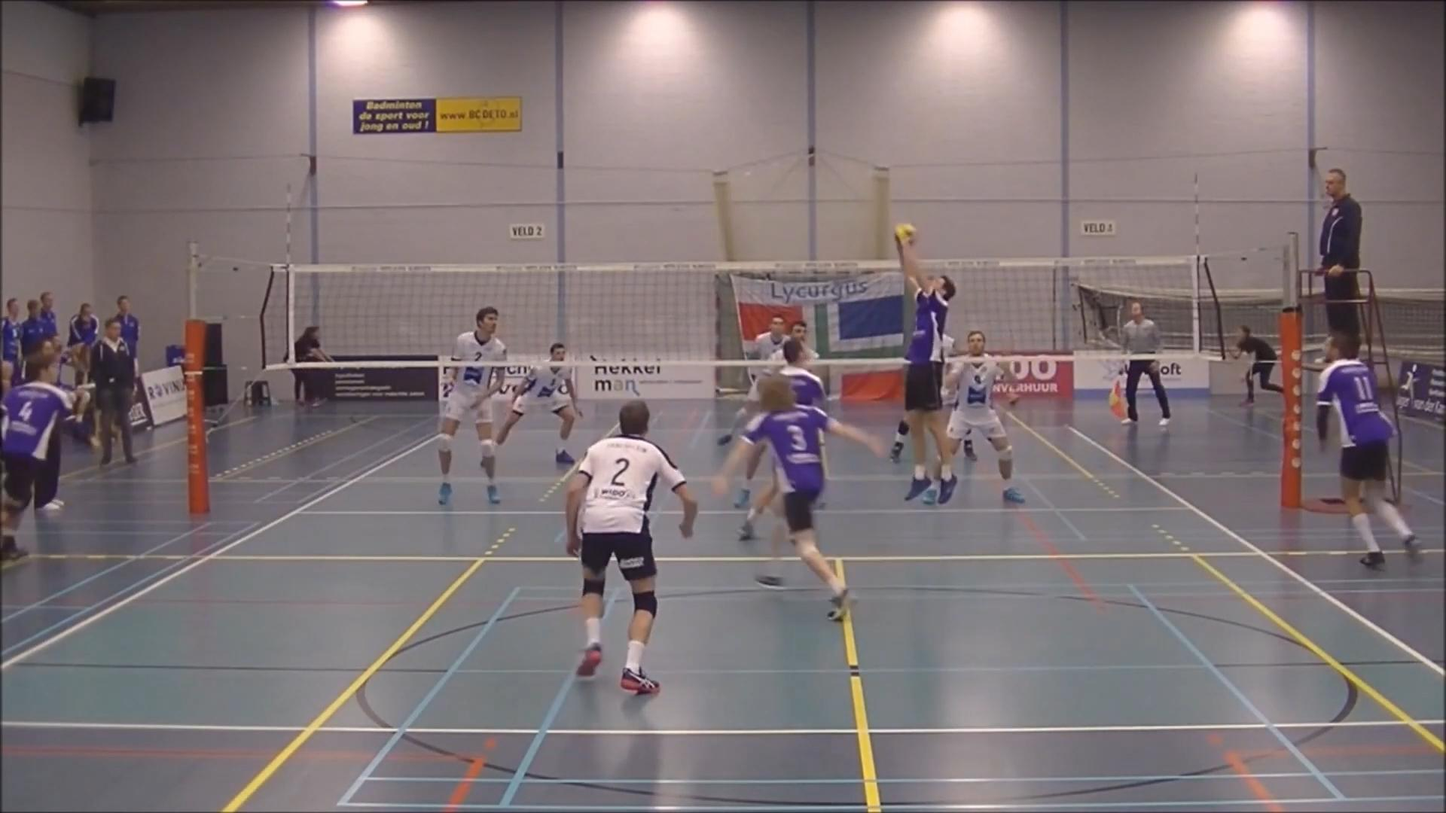Player: (714, 374, 885, 620), (566, 400, 697, 694), (1317, 333, 1415, 567), (0, 346, 87, 560), (946, 330, 1024, 503), (438, 306, 506, 504), (496, 343, 581, 464), (717, 367, 769, 446), (776, 335, 826, 408), (767, 321, 816, 369), (889, 416, 909, 463)
Set: (885, 227, 967, 514)
ball: (887, 222, 921, 251)
